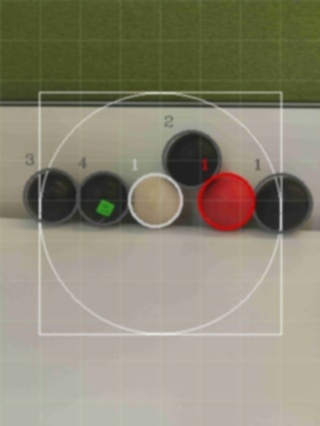Pelota blanca: (127, 172, 185, 230)
Pelota negra: (252, 172, 313, 232), (161, 129, 222, 187), (20, 166, 78, 224), (79, 169, 129, 227)
Pelota roja: (196, 169, 257, 232)
